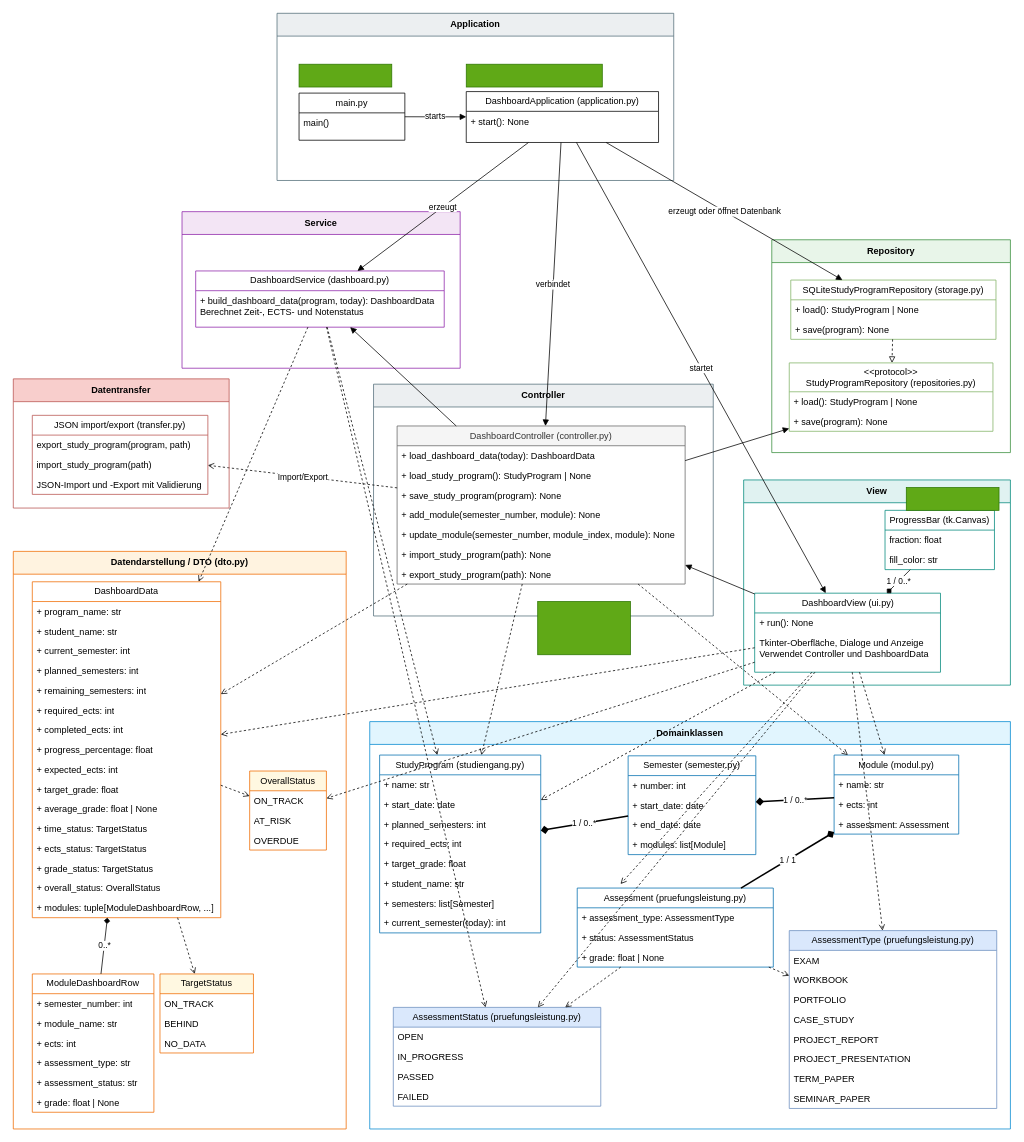
Some shapes in this 1024 by 1142 pixel diagram are drawn without their labels. Each missing label, with the centre of its shape:
Erzeugt und verdrahtet die Komponenten: point (534, 75)
Hinweis zu update_module: Beim bearbeiten wird ein neues Modul erzeugt: point (583, 628)
Programmeinstieg: point (345, 75)
Tkinter-Klasse für Fortschrittsanzeigen: point (952, 498)
